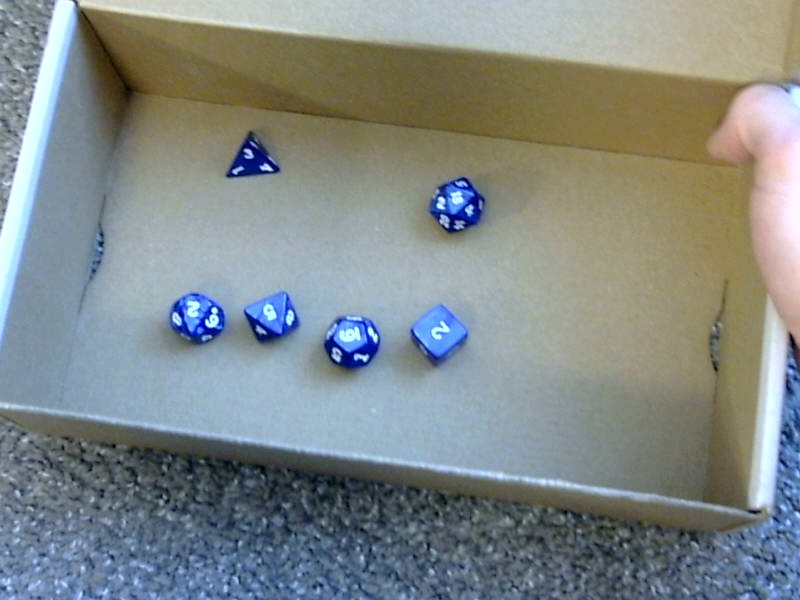d10 2: (165, 288, 228, 348)
d12 6: (320, 313, 382, 371)
d20 18: (422, 169, 486, 236)
d4 3: (222, 131, 281, 183)
d6 2: (403, 298, 470, 370)
d8 5: (242, 288, 300, 344)
